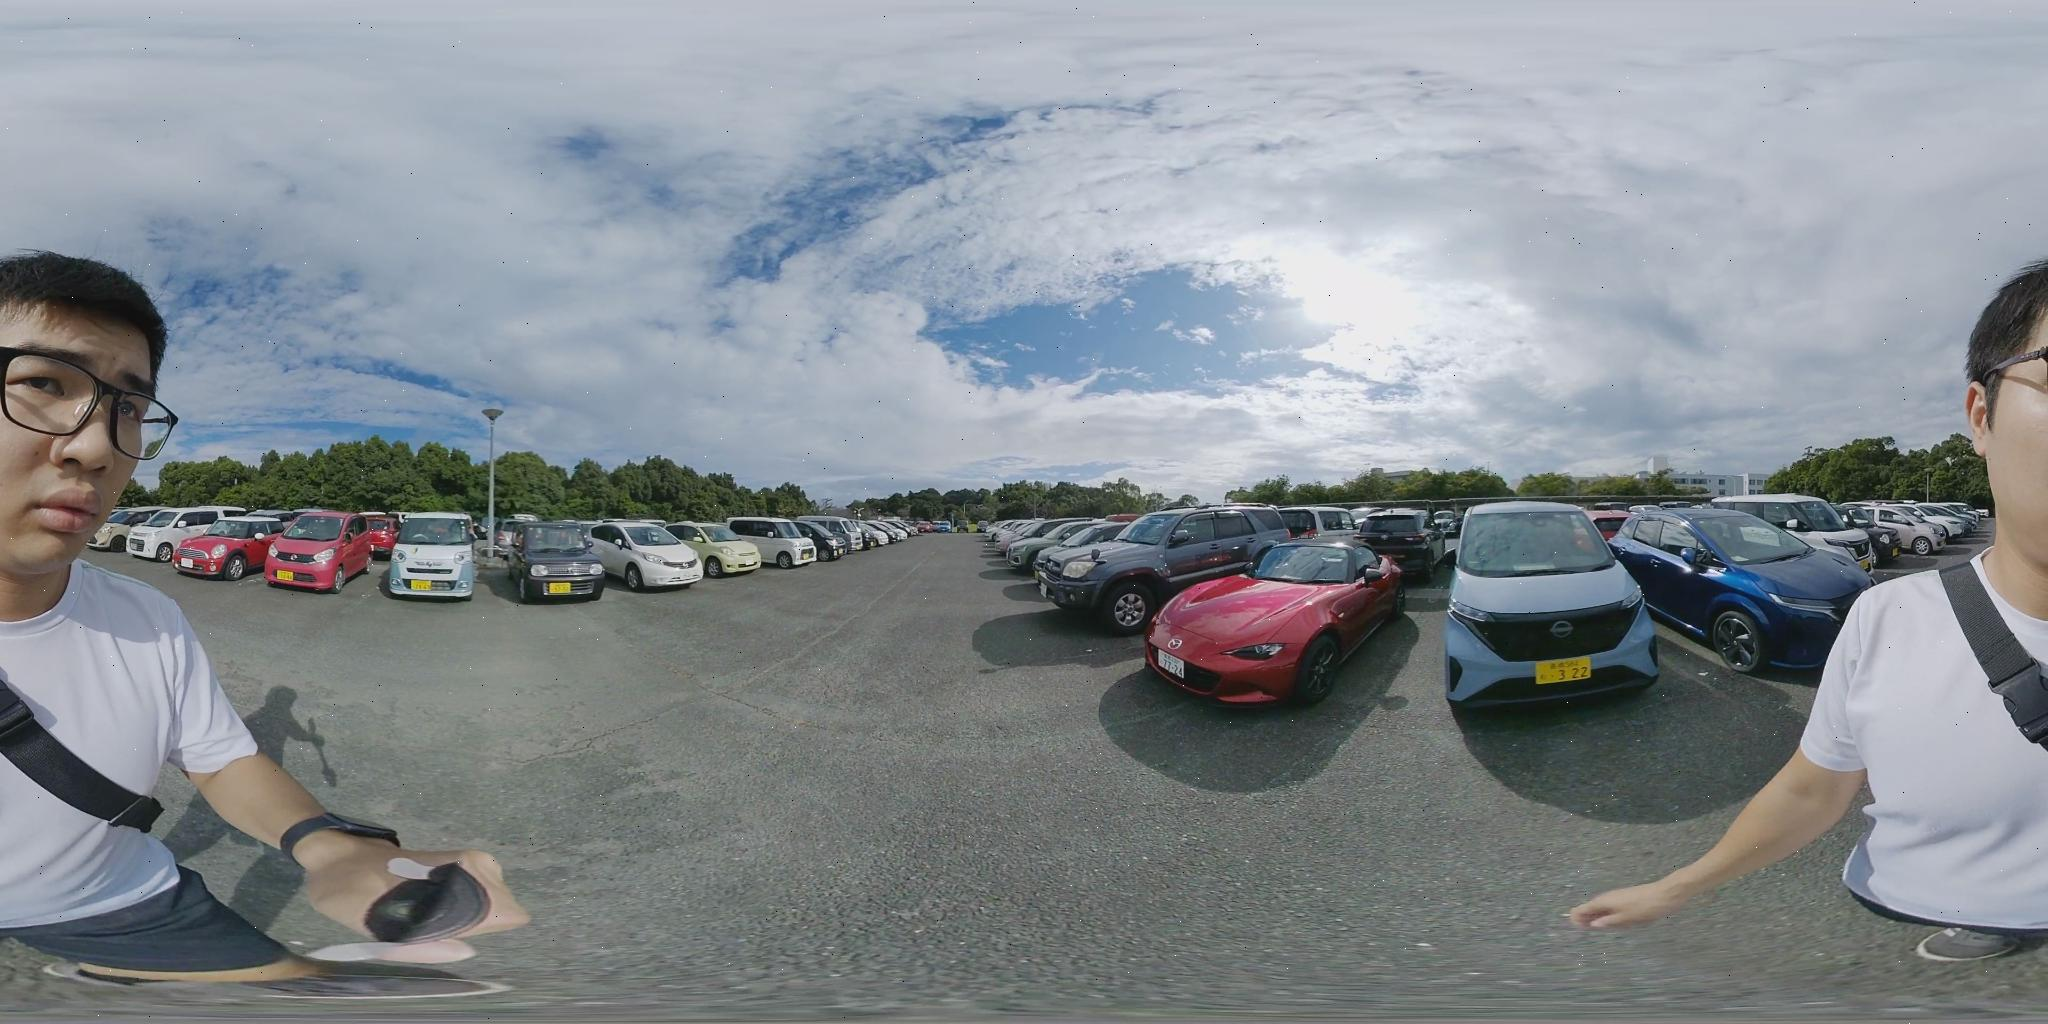car: (1142, 537, 1407, 711), (1607, 509, 1877, 671), (1448, 503, 1660, 707), (1033, 507, 1335, 633), (1745, 499, 1972, 566), (1704, 495, 1882, 567), (256, 513, 397, 590), (583, 524, 708, 590), (509, 521, 602, 602), (998, 517, 1131, 572), (393, 511, 472, 601), (1843, 505, 1966, 560), (726, 519, 836, 568), (91, 507, 205, 554), (1358, 512, 1438, 549), (799, 519, 870, 554), (822, 520, 893, 550), (858, 521, 910, 547), (916, 522, 957, 536)
